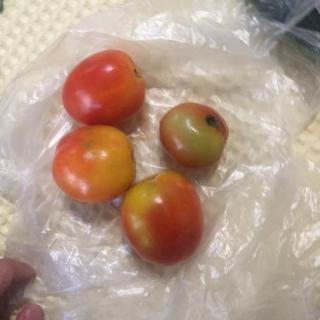Tomat: (116, 163, 213, 276), (54, 45, 157, 130), (51, 123, 138, 209), (160, 93, 239, 166)
